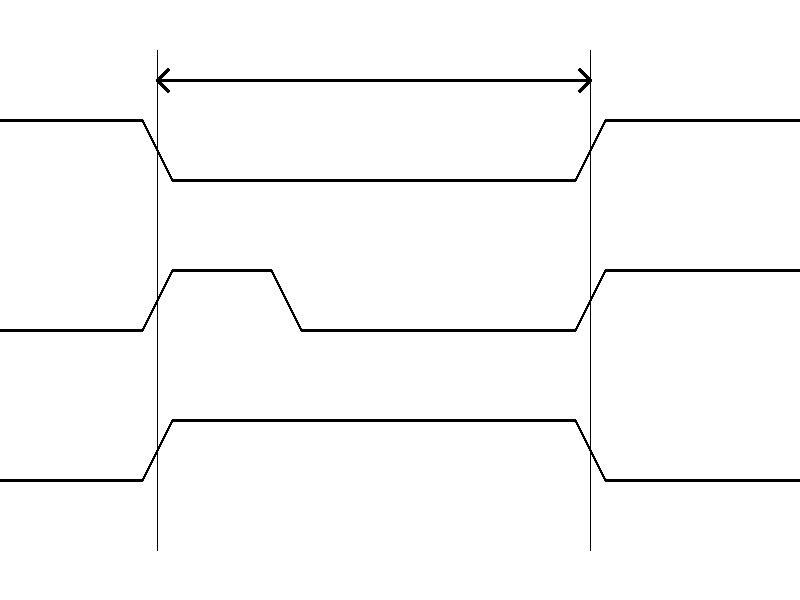double_arrow: (157, 65, 590, 95)
